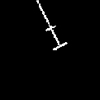double_crochet: (37, 0, 66, 49)
